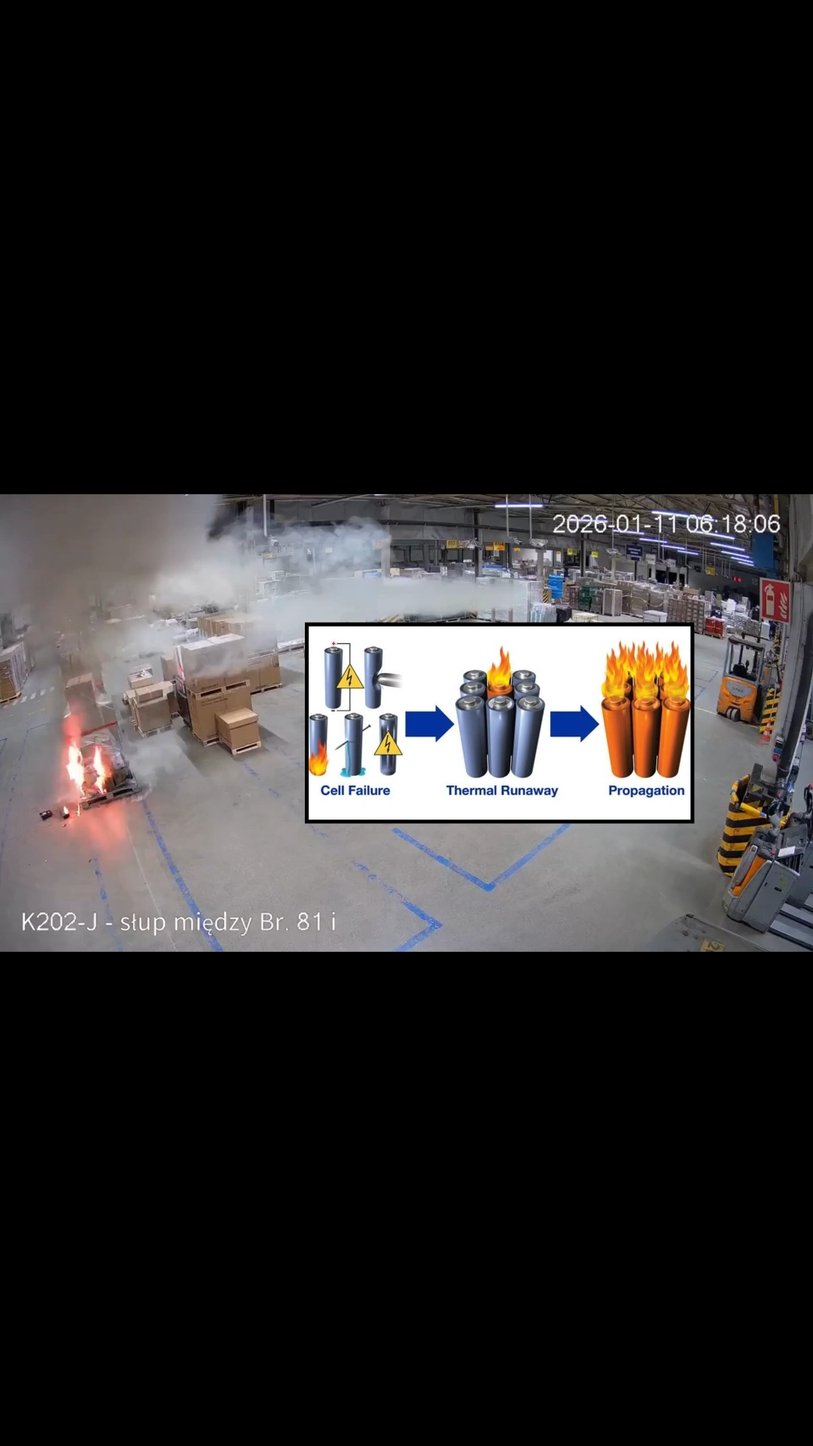fire: (63, 733, 113, 807)
smoke: (0, 496, 522, 746)
